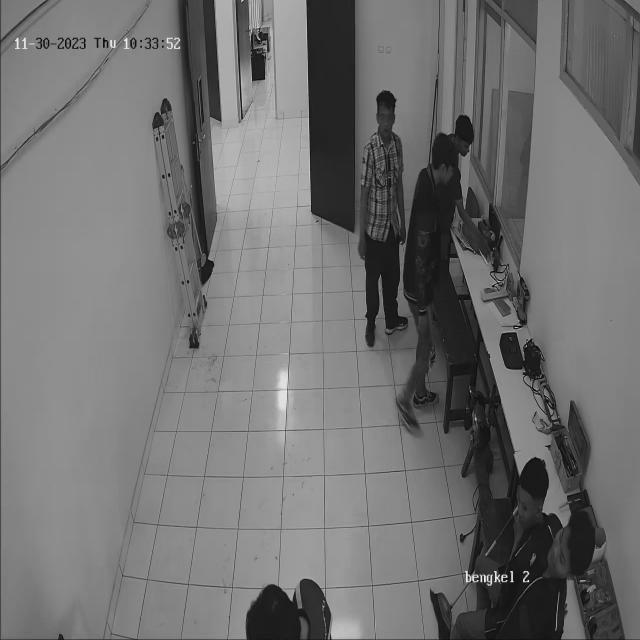person: (403, 114, 463, 449), (356, 74, 410, 340)
